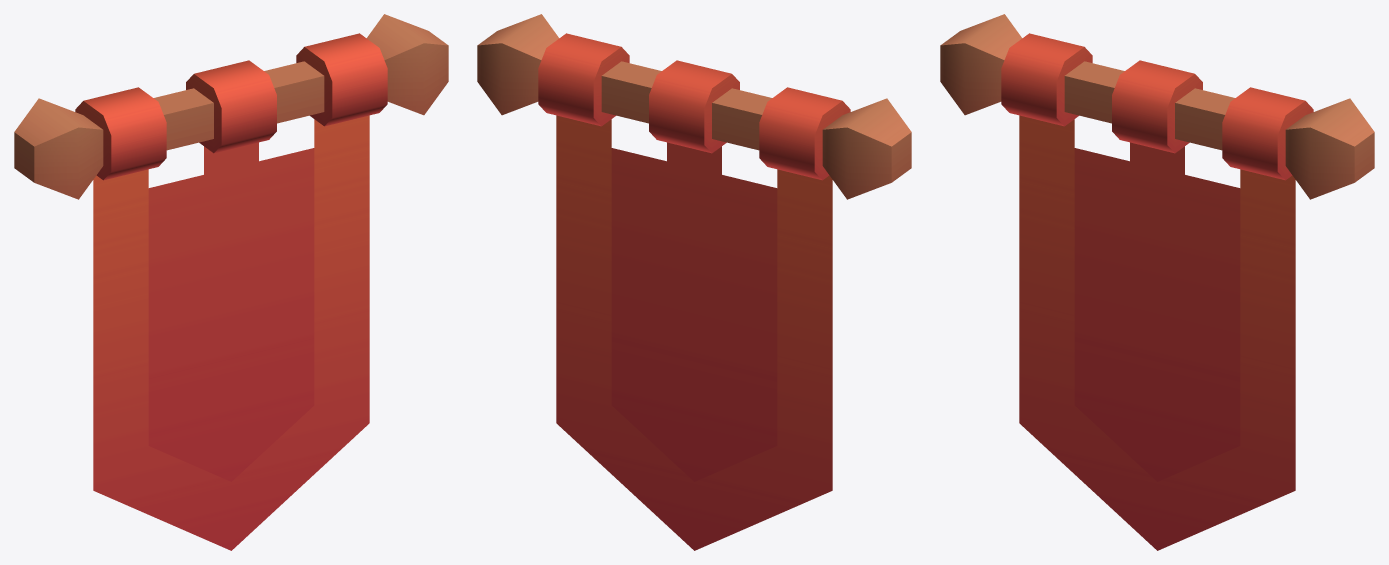
Rendered from banner.glb.
The picture shows the model from 3 angles, left to right: view 1: azimuth 30°, elevation 25°; view 2: azimuth 150°, elevation 25°; view 3: azimuth 330°, elevation 25°; orthographic projection.
Visible parts, largest first — view 1: banner; view 2: banner; view 3: banner.
Boxes of the visible parts, bbox=[...] form: banner: bbox=[14, 14, 448, 550]; banner: bbox=[477, 14, 911, 550]; banner: bbox=[940, 14, 1374, 550].
Bounding box in the file's own units: 0.6 × 0.6644 × 0.1.
